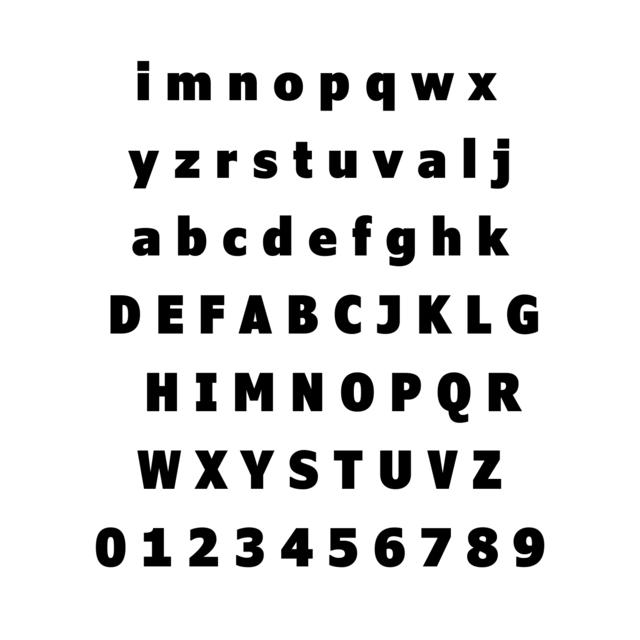alphabet: (238, 448, 278, 491), (135, 449, 175, 491), (234, 371, 274, 413), (338, 371, 377, 413), (417, 294, 456, 336), (144, 372, 181, 413), (505, 293, 541, 335), (427, 448, 461, 492), (286, 448, 319, 493), (126, 150, 162, 191), (262, 215, 294, 259), (292, 372, 326, 413), (333, 294, 363, 337), (192, 372, 219, 414), (272, 71, 307, 102), (370, 151, 406, 180), (351, 212, 373, 258), (306, 228, 338, 259), (426, 70, 457, 102), (328, 150, 359, 181), (417, 150, 448, 181), (228, 70, 260, 100), (130, 58, 151, 101), (252, 150, 280, 182), (132, 227, 160, 258), (410, 70, 438, 100), (222, 228, 249, 258), (166, 71, 193, 101), (492, 138, 510, 182), (430, 212, 448, 255), (214, 150, 238, 180), (461, 134, 476, 179), (193, 70, 213, 101), (327, 148, 346, 178), (164, 71, 180, 101)
